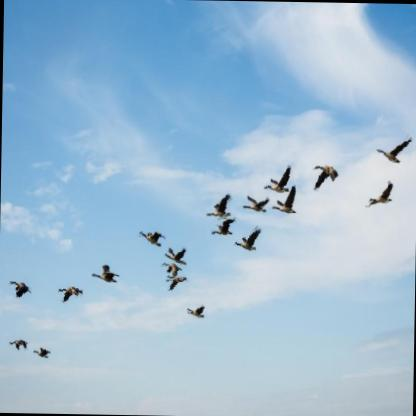bird: (369, 126, 414, 172), (359, 178, 399, 217), (307, 156, 345, 196), (261, 156, 294, 196), (197, 191, 235, 224), (267, 186, 300, 223), (231, 224, 262, 259), (52, 277, 90, 305), (207, 216, 241, 245), (238, 188, 269, 219), (5, 270, 35, 302), (136, 223, 168, 252), (91, 260, 120, 289), (181, 296, 211, 323), (165, 273, 194, 297), (159, 259, 185, 281), (164, 243, 188, 266), (6, 336, 33, 354), (32, 345, 52, 361)
